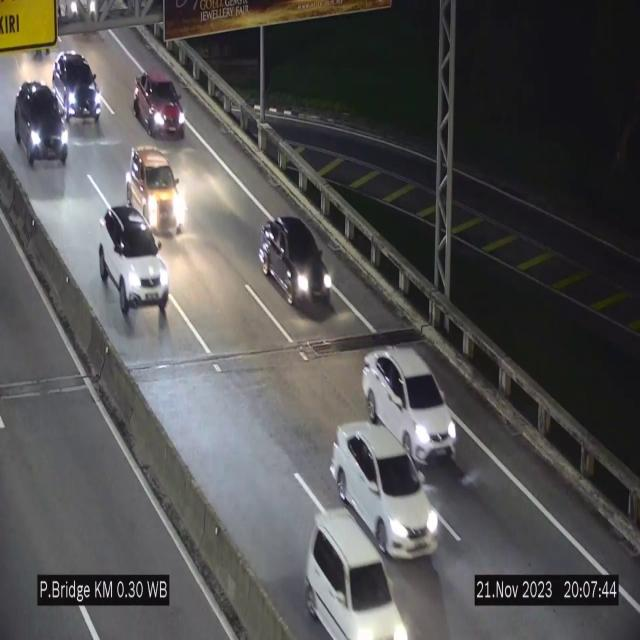Car: (331, 424, 439, 558), (306, 512, 410, 639), (362, 347, 456, 468), (96, 204, 171, 318), (258, 212, 334, 313), (124, 145, 187, 240), (15, 82, 70, 172), (56, 52, 104, 129), (134, 71, 186, 140)
